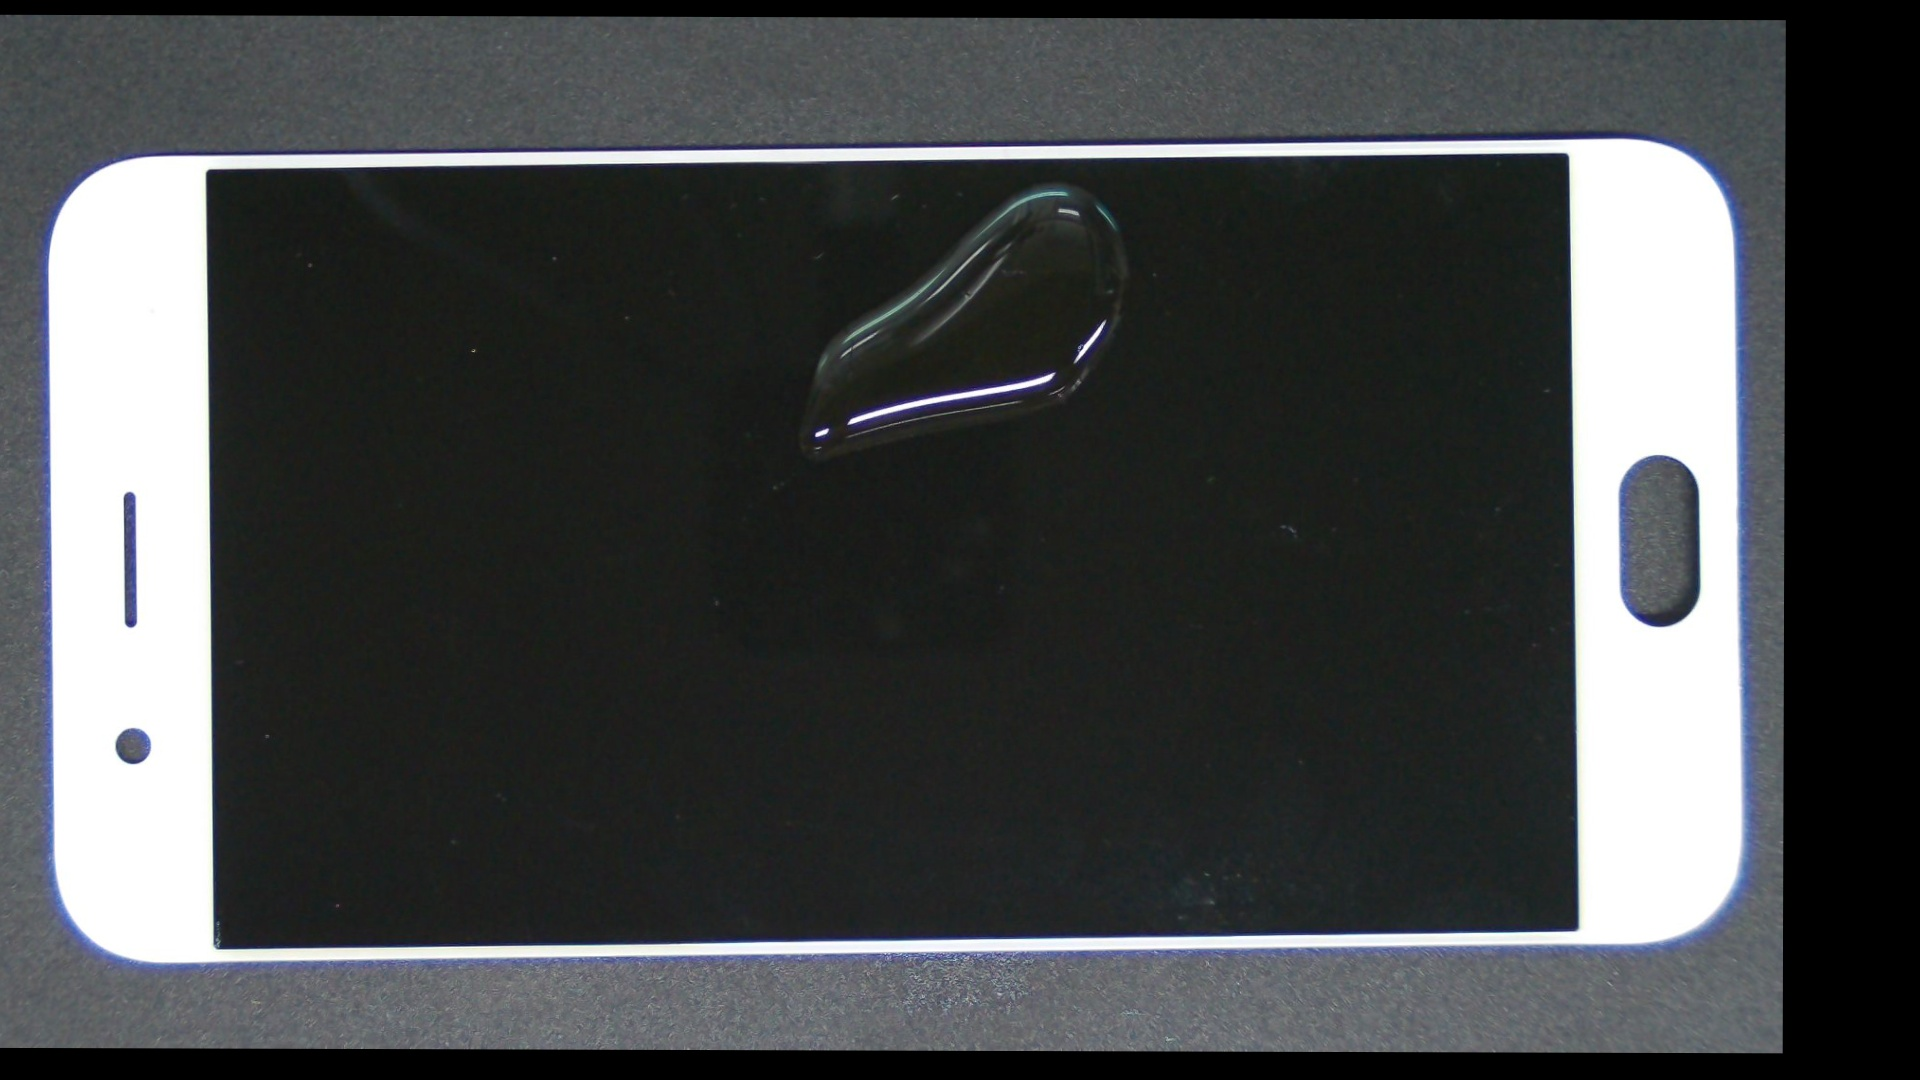oil: (510, 98, 1594, 265)
